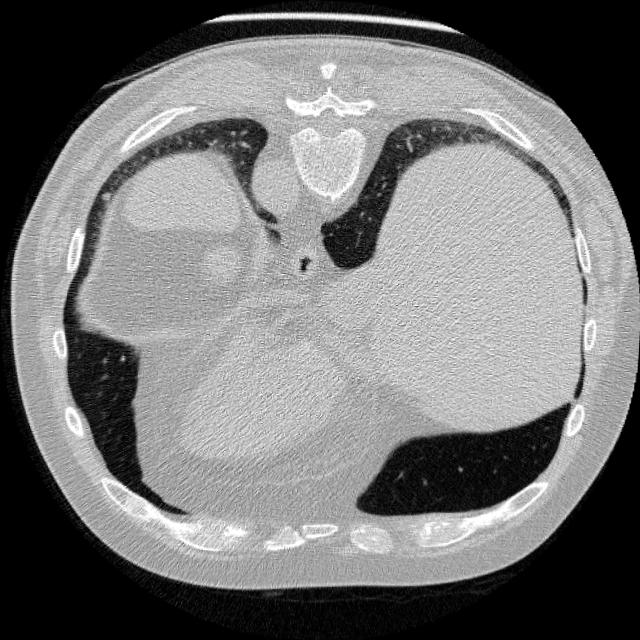nodule: (95, 185, 118, 208)
